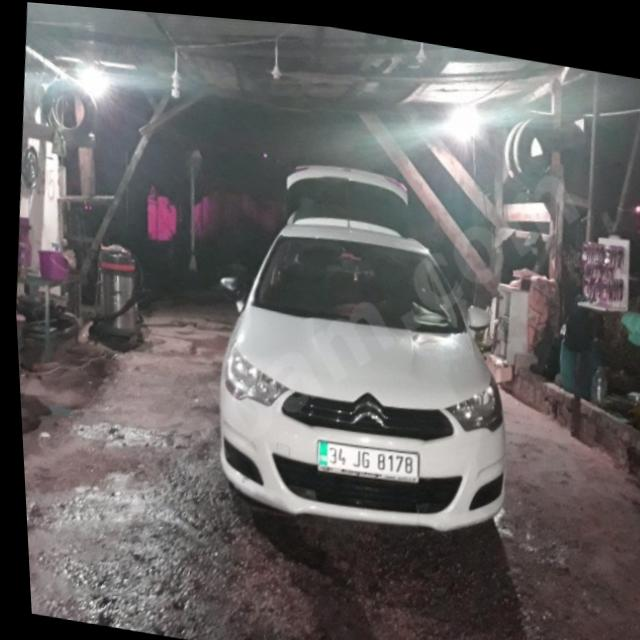license_plate: (311, 430, 415, 474)
